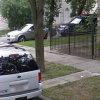Car: (5, 20, 52, 48)
